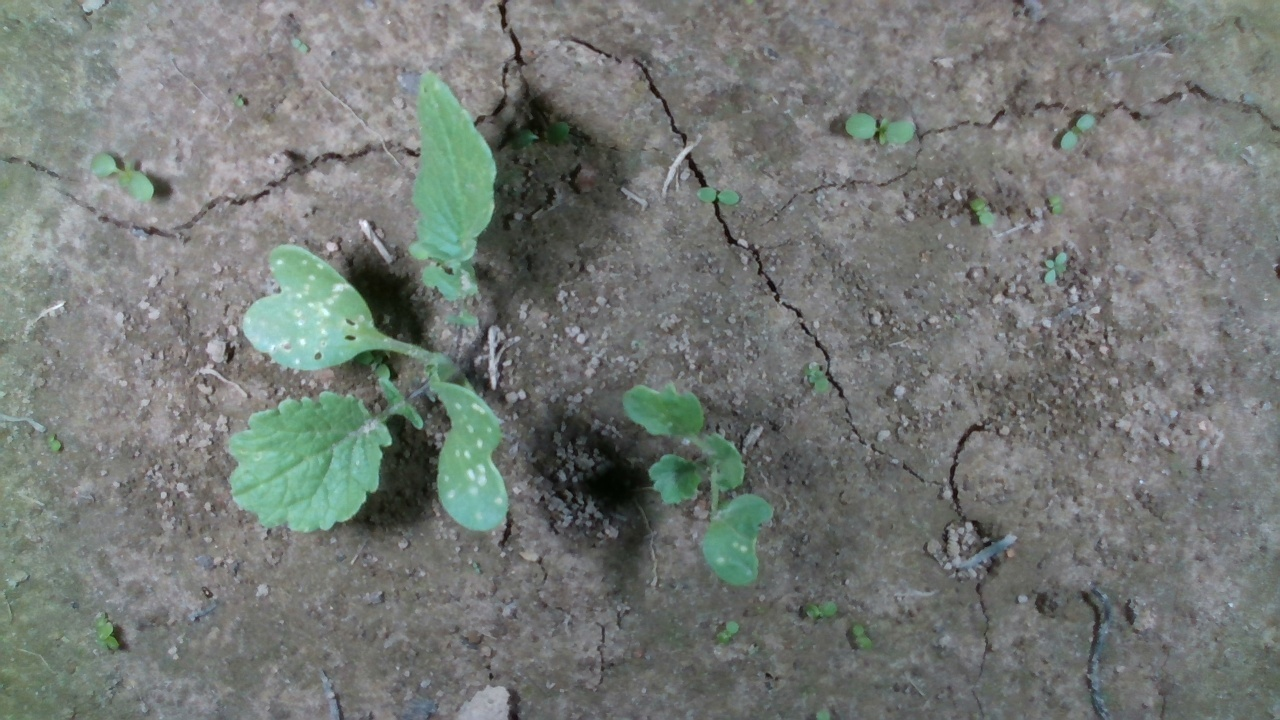weed: (88, 150, 156, 204), (1058, 110, 1096, 150), (694, 184, 741, 205), (1042, 250, 1069, 286), (969, 195, 995, 229), (801, 598, 838, 620), (715, 619, 740, 646), (851, 622, 873, 651), (1047, 192, 1063, 216), (290, 36, 311, 54), (44, 432, 62, 453)
